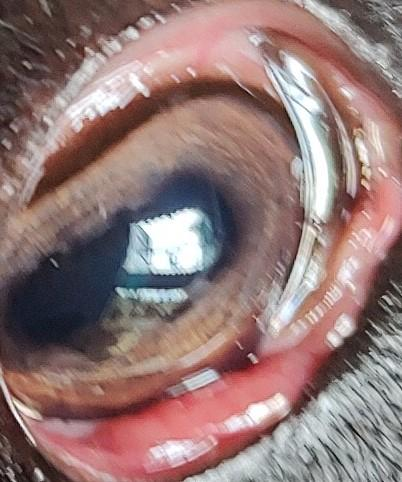eye_membrane: (24, 0, 402, 481)
